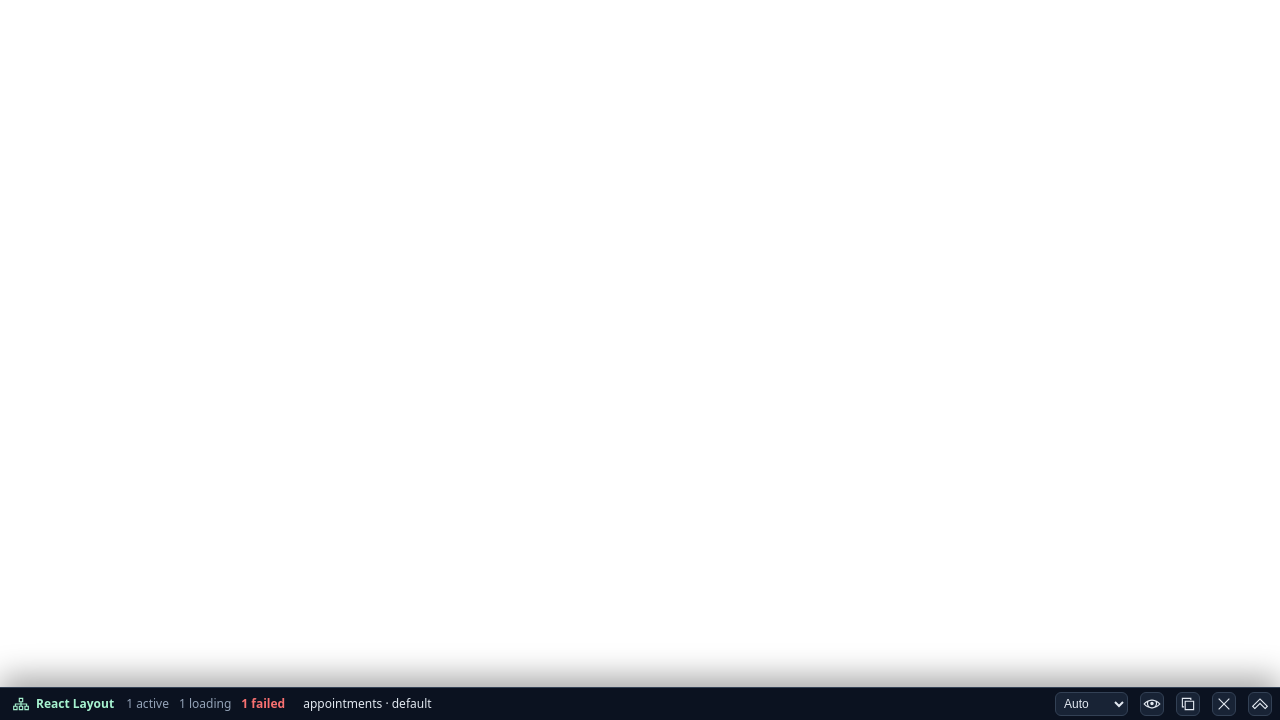
Test: docks a bar with live counts, the current layout and quick toggles
Expected: the element named "Layout status" reads "1 active 1 loading 1 failed", left=126, top=695, right=285, bottom=713
Expected: the button with aria-label "Current layout" reads "appointments · default", left=297, top=692, right=438, bottom=716
Select "Loading" in the dropdown named "Override state". click: [1092, 704]
box: left=1055, top=692, right=1128, bottom=716
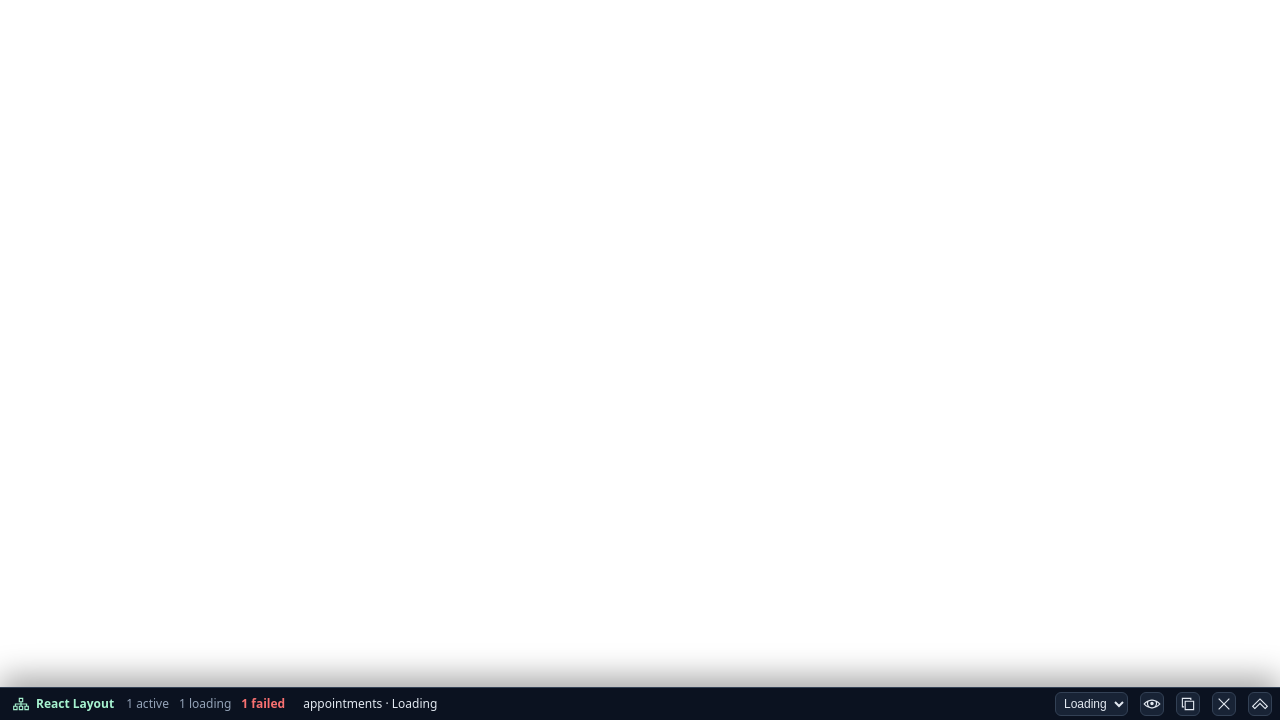
Result: the button with aria-label "Current layout" reads "appointments · Loading" at left=297, top=692, right=443, bottom=716
